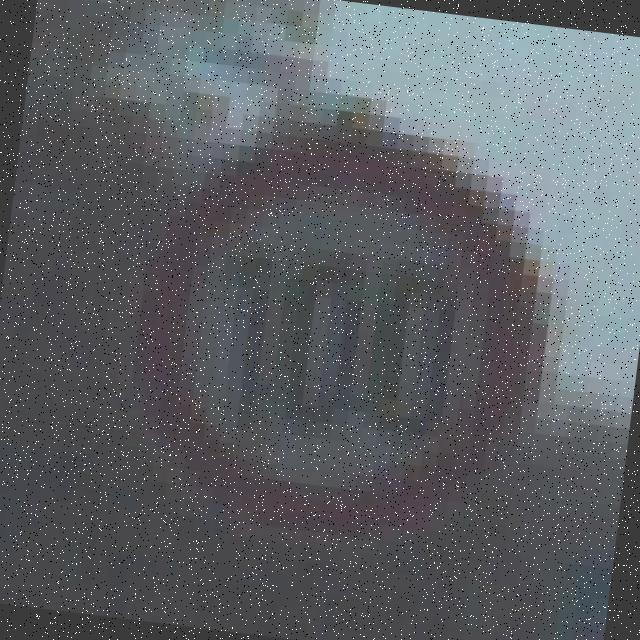Ograniczenie predkosci do 100: (122, 110, 558, 559)
